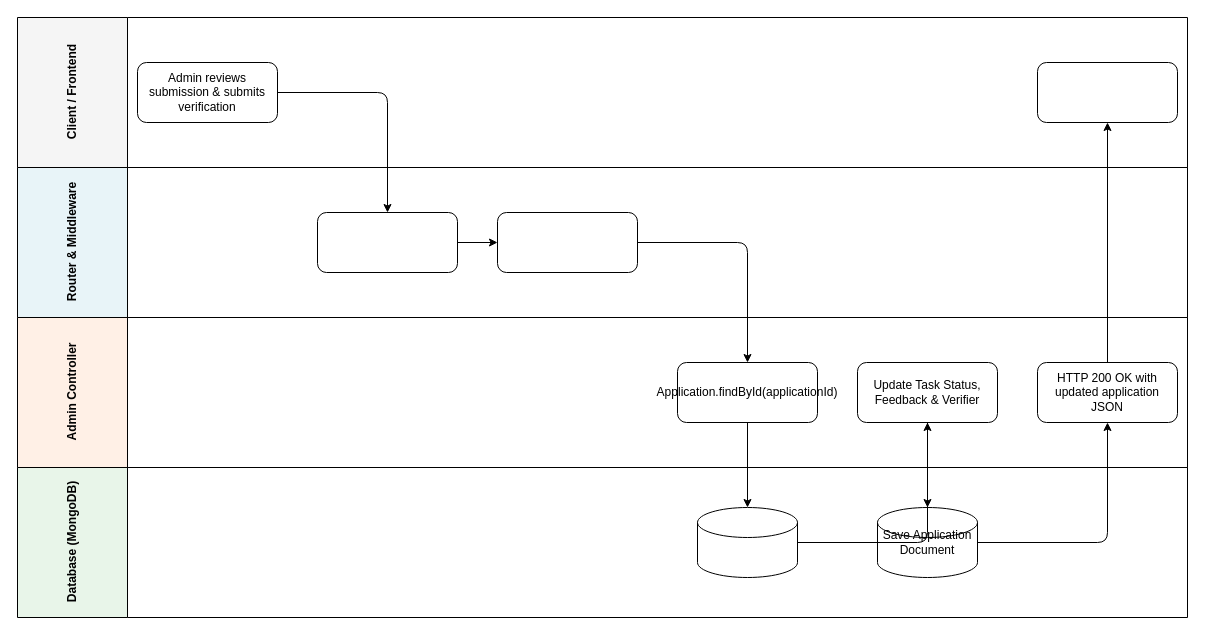
This 1205x635 diagram has some shape labels left out. Here are the shapes that lost their labels. From the top down, the centre of each, then its label:
the point at 1107,92: Refresh Tasks Dialog / Show Verified Status
the point at 387,242: PATCH /admin/application/:applicationId/tasks/:taskId/verify
the point at 567,242: verifyJWT, verifyAdmin & Zod Validate
the point at 747,542: Query Application
